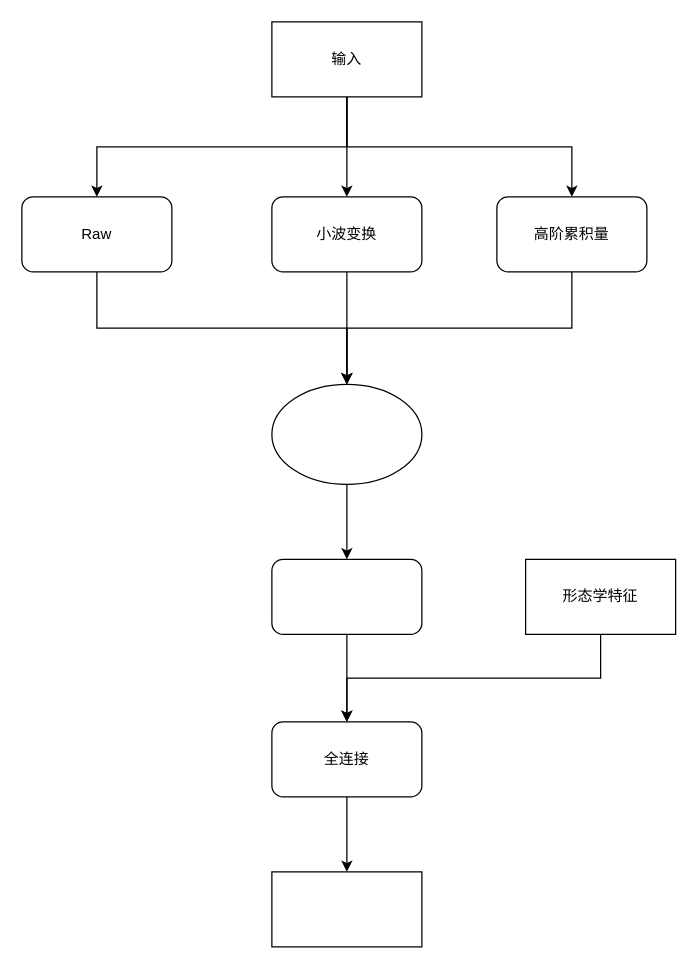
This 698x969 diagram has some shape labels left out. The shapes that lost their labels are listed below. From the top down, each one's centre as x and y in pixels, then its label:
At pixel 346 433: "拼接".
At pixel 346 596: "CNN".
At pixel 346 909: "分类结果".
